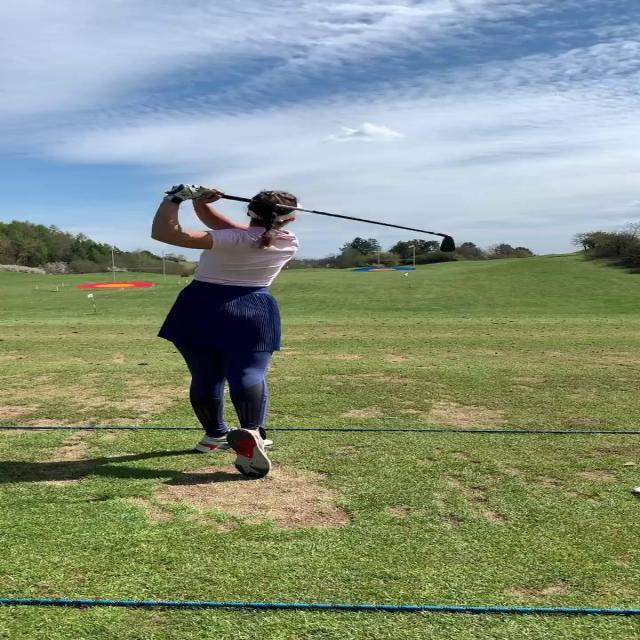golf club-handle: (227, 194, 457, 256)
golf club-head: (434, 237, 457, 255)
